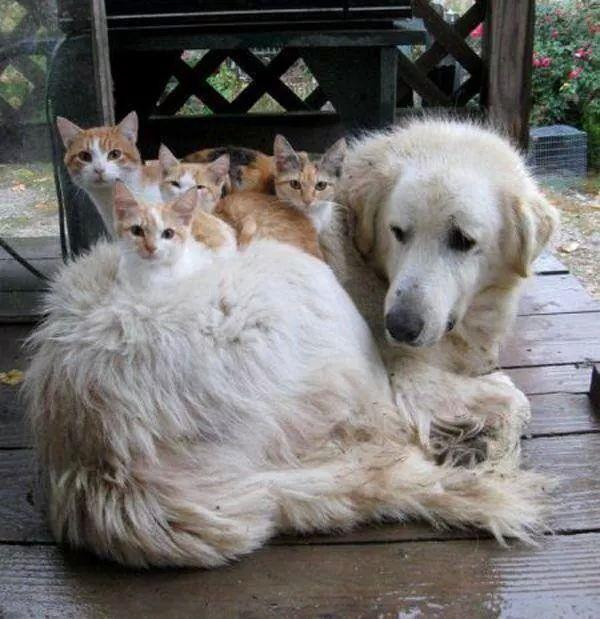kedo: (109, 181, 198, 268), (53, 112, 136, 190), (277, 134, 347, 211)
